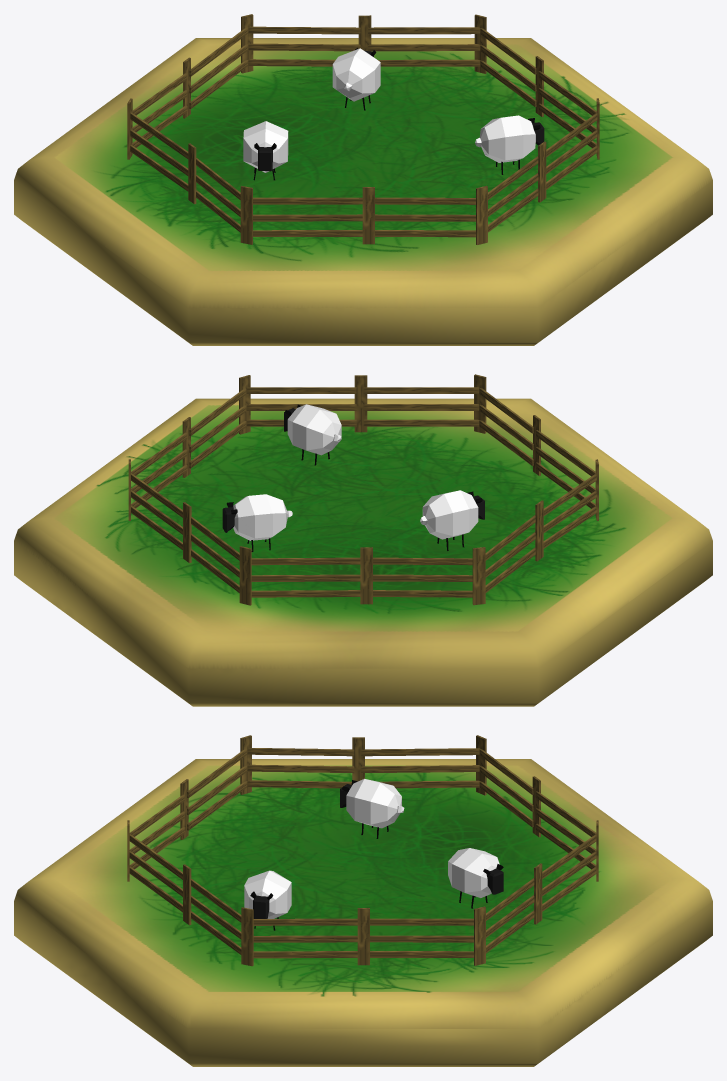
Rendered from Resource_Wool.gltf.
3 views of the same model, one above another, from view 1: azimuth 30°, elevation 25°; view 2: azimuth 150°, elevation 25°; view 3: azimuth 270°, elevation 25° (orthographic).
Visible parts, largest first — view 1: Wool, Sheep; view 2: Wool, Sheep; view 3: Wool, Sheep.
Part boxes in pixels (x1,y1,x2,y2): Wool: (14, 14, 712, 345); Sheep: (243, 48, 544, 180); Wool: (14, 374, 712, 706); Sheep: (222, 404, 484, 551); Wool: (14, 735, 712, 1066); Sheep: (244, 779, 503, 930).
Bounding box in the file's own units: 1.73 × 0.377 × 2.
Materials: 2 (2 with a texture image).
